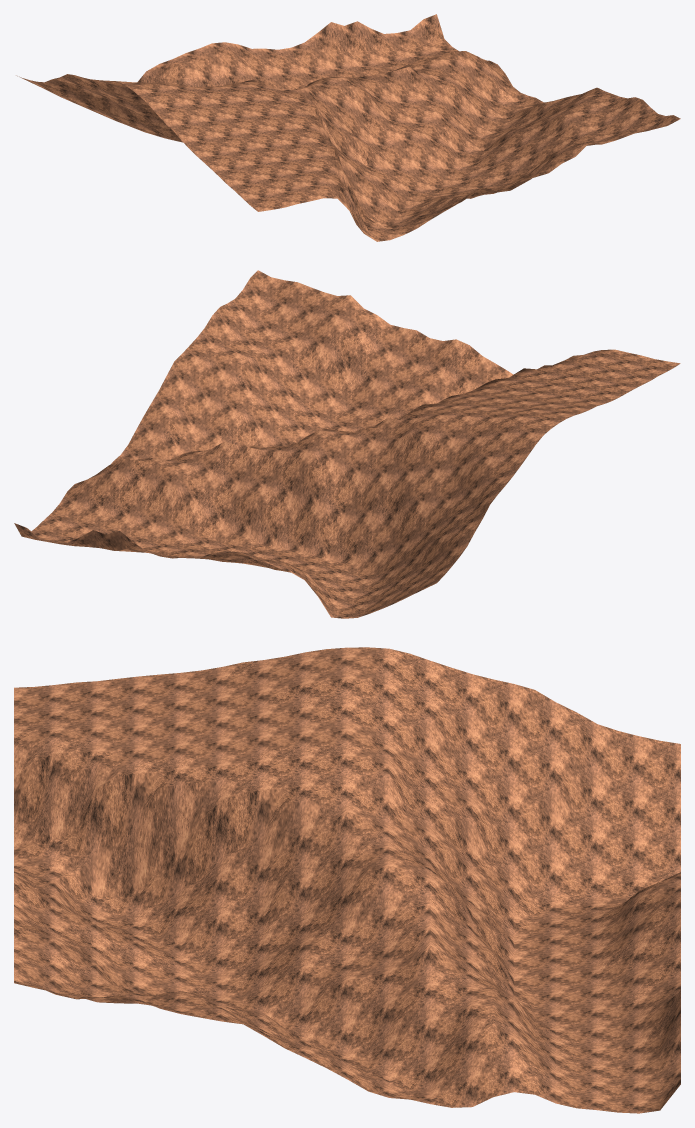
Rendered from terrain_00_18.dae.
The picture shows the model from 3 angles, top to bottom: view 1: azimuth 30°, elevation 25°; view 2: azimuth 150°, elevation 25°; view 3: azimuth 270°, elevation 25°; orthographic projection. The views are drawn at different scales.
Parts seen in each view (by area): view 1: terrain_00_18-node; view 2: terrain_00_18-node; view 3: terrain_00_18-node.
Part boxes in pixels (<box>): terrain_00_18-node: <box>16,14,680,241</box>; terrain_00_18-node: <box>14,270,680,618</box>; terrain_00_18-node: <box>14,647,680,1113</box>.
Size of the model in its own units: 128 by 128 by 39.07.
1 material, 1 textured.
